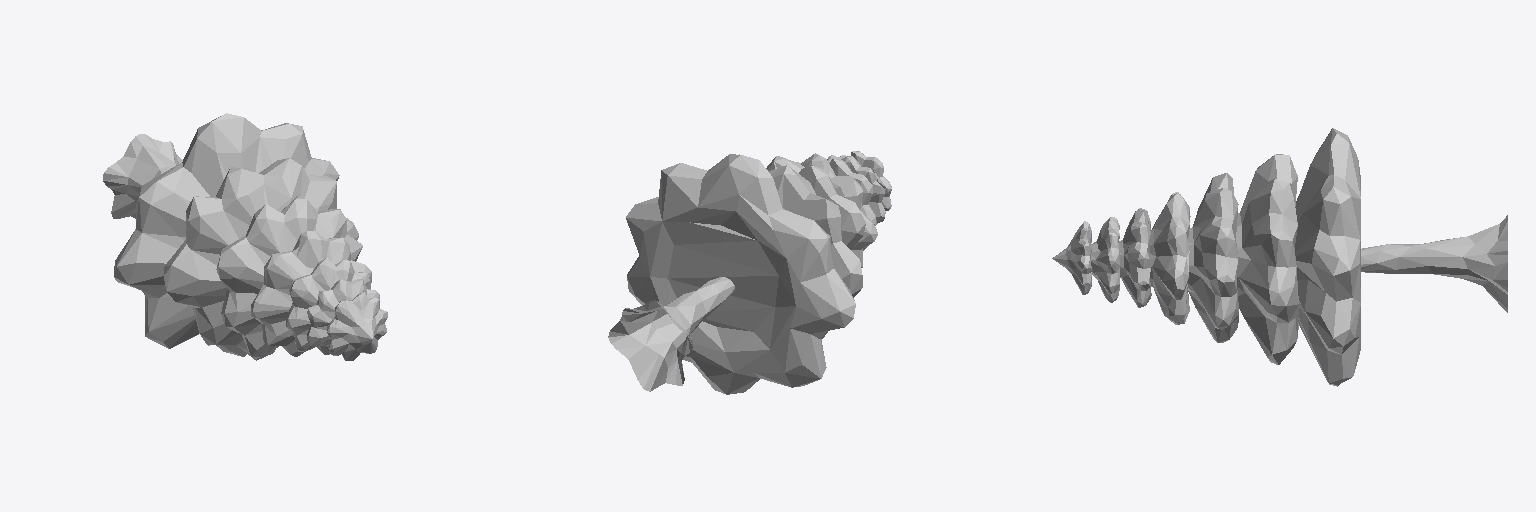
File: cartoon2.obj
3 renders of one model, left to right at view 1: azimuth 30°, elevation 25°; view 2: azimuth 150°, elevation 25°; view 3: azimuth 270°, elevation 25°, orthographic.
Parts seen in each view (by area): view 1: pino; view 2: pino; view 3: pino.
Boxes of the visible parts, x1,y1,x2,y2 form: pino: [103, 113, 387, 360]; pino: [608, 151, 891, 394]; pino: [1052, 128, 1507, 386].
Bounding box in the file's own units: 1.85 × 1.9 × 3.21.